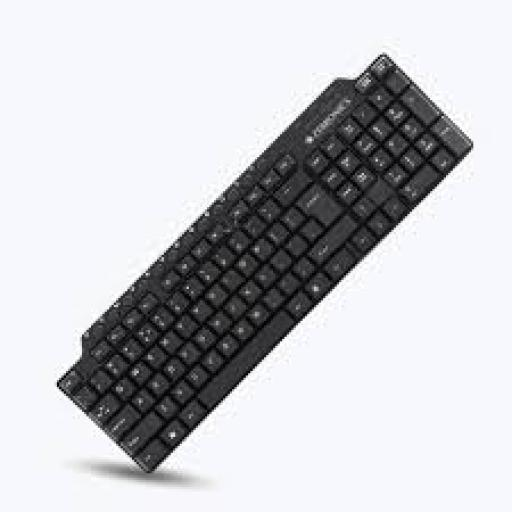keyboard: (59, 55, 471, 471)
